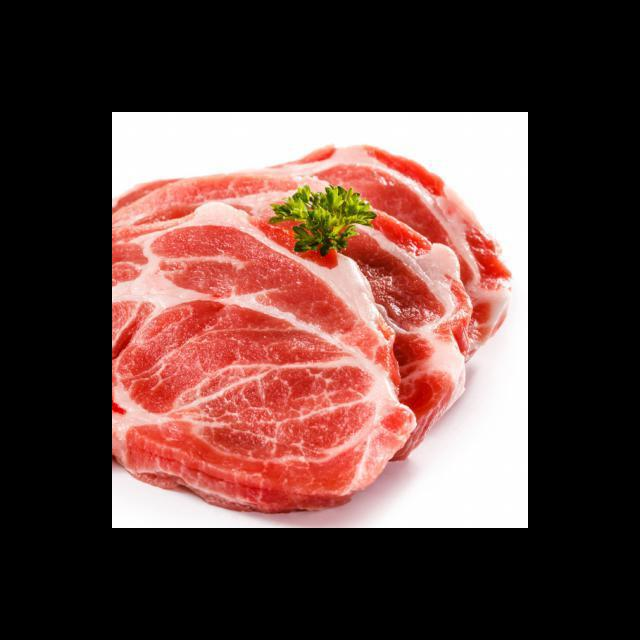pork: (113, 141, 510, 512)
